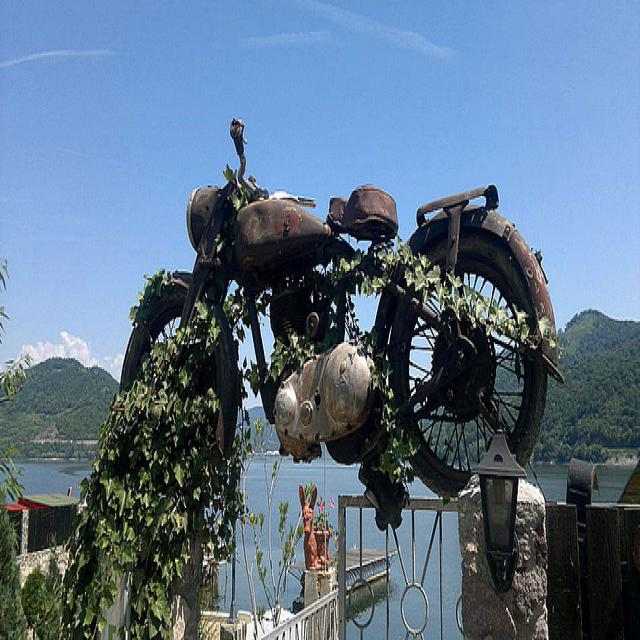motor: (114, 117, 566, 496)
